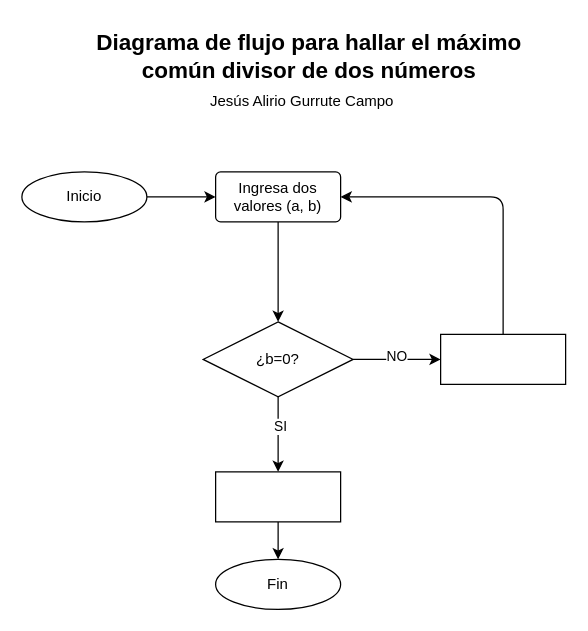
Some shapes in this 588 by 631 pixel diagram are drawn without their labels. Each missing label, with the box of its shape:
aux = b b = a mod b aux = a: (439, 333, 566, 384)
El m.c.d es a: (214, 471, 341, 522)
